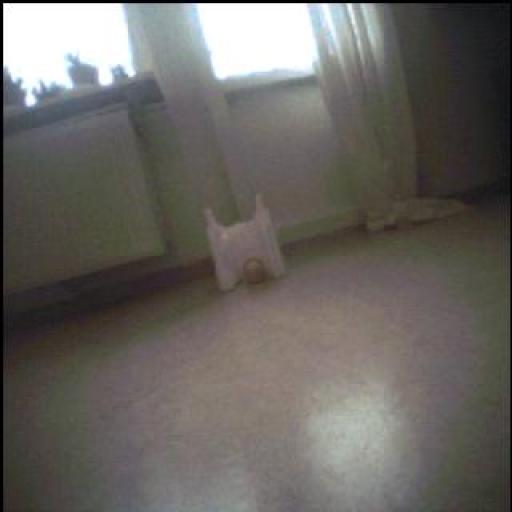Basket: (242, 256, 270, 287)
